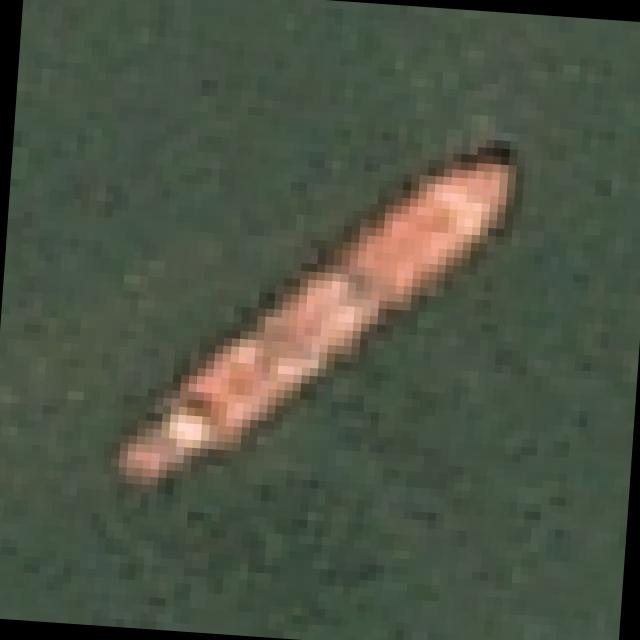ship: (47, 86, 554, 604)
